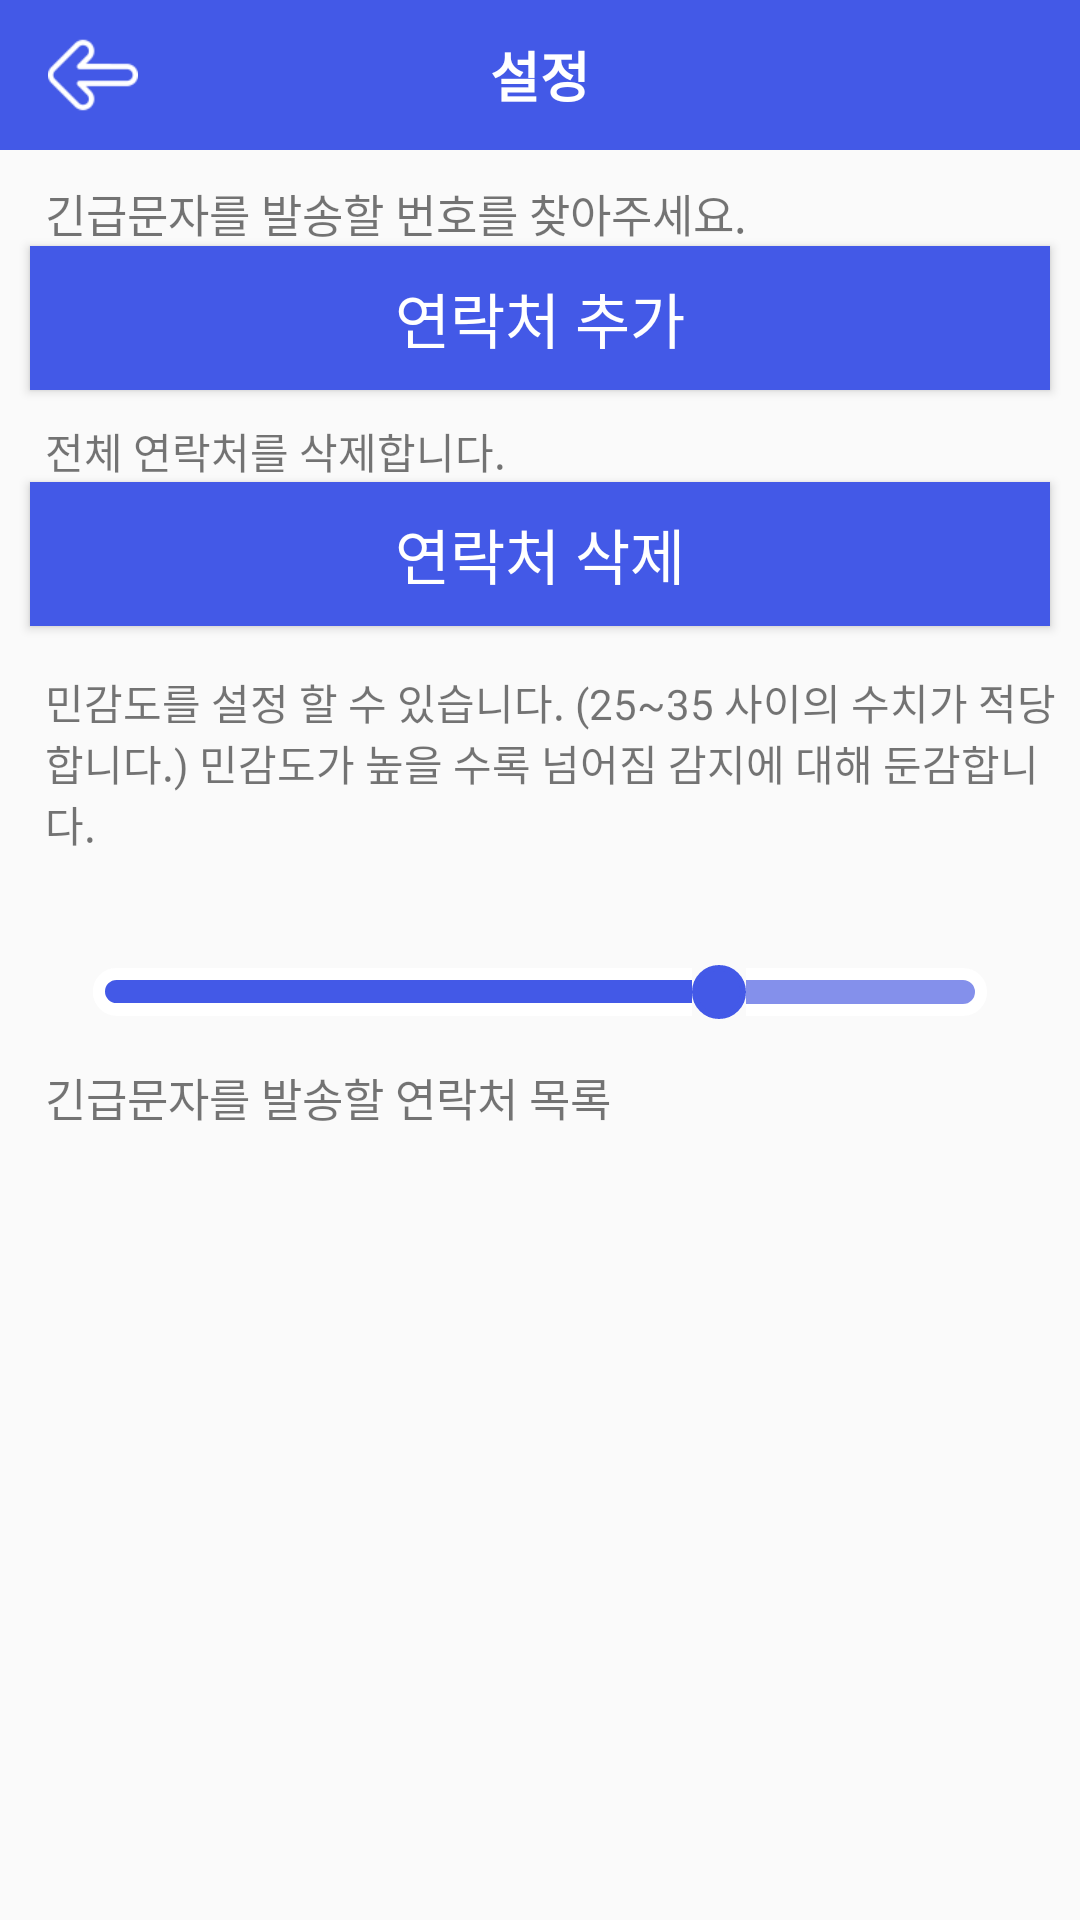

Icons on this 1080*1920 Android screen, each with its box as (x1, y1, x2, y2):
back: (48, 39, 138, 111)
